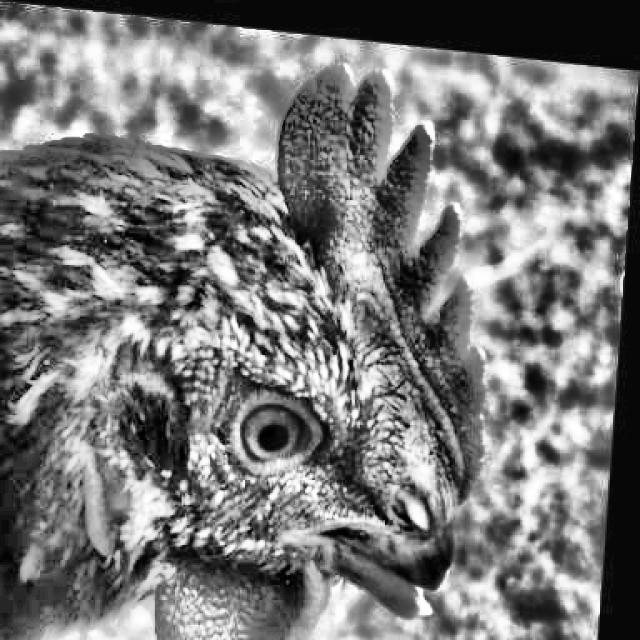Healthy: (202, 378, 350, 487)
